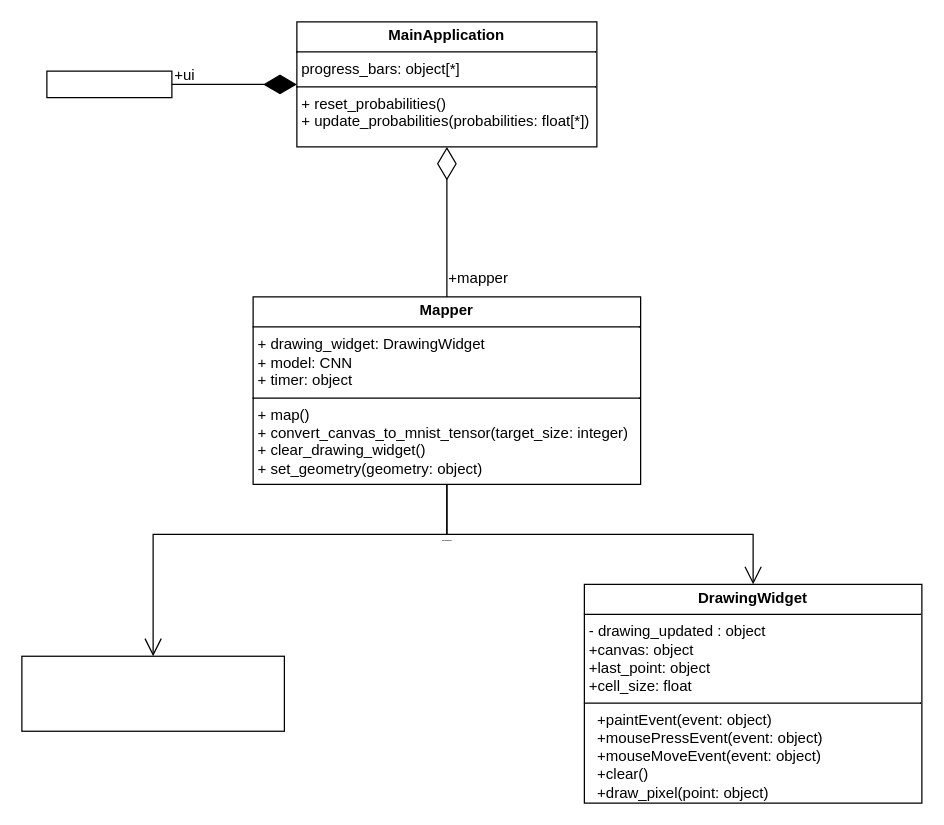
This 944x825 diagram has some shape labels left out. Here are the shapes that lost their labels. From the top down, the centre of each, then its label:
At (x=109, y=84): "Ui_MainWindow".
At (x=152, y=693): "CNN + load_model(model_path: string) + predict_proba(tensor: object): object".
